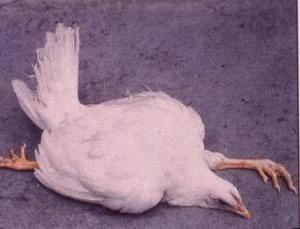AbNormal: (3, 16, 295, 229)
